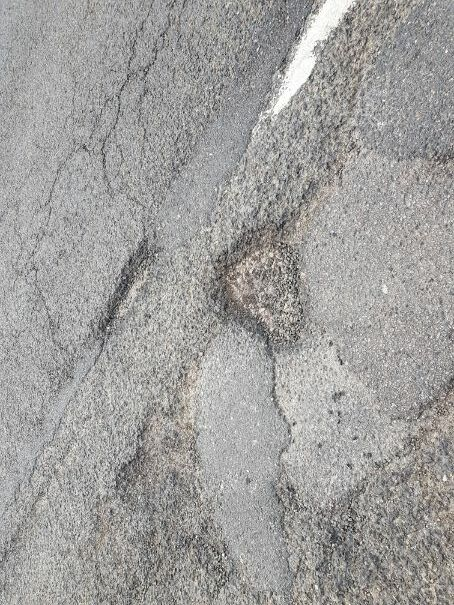pothole: (203, 213, 312, 357), (109, 388, 210, 499), (103, 242, 157, 331)
